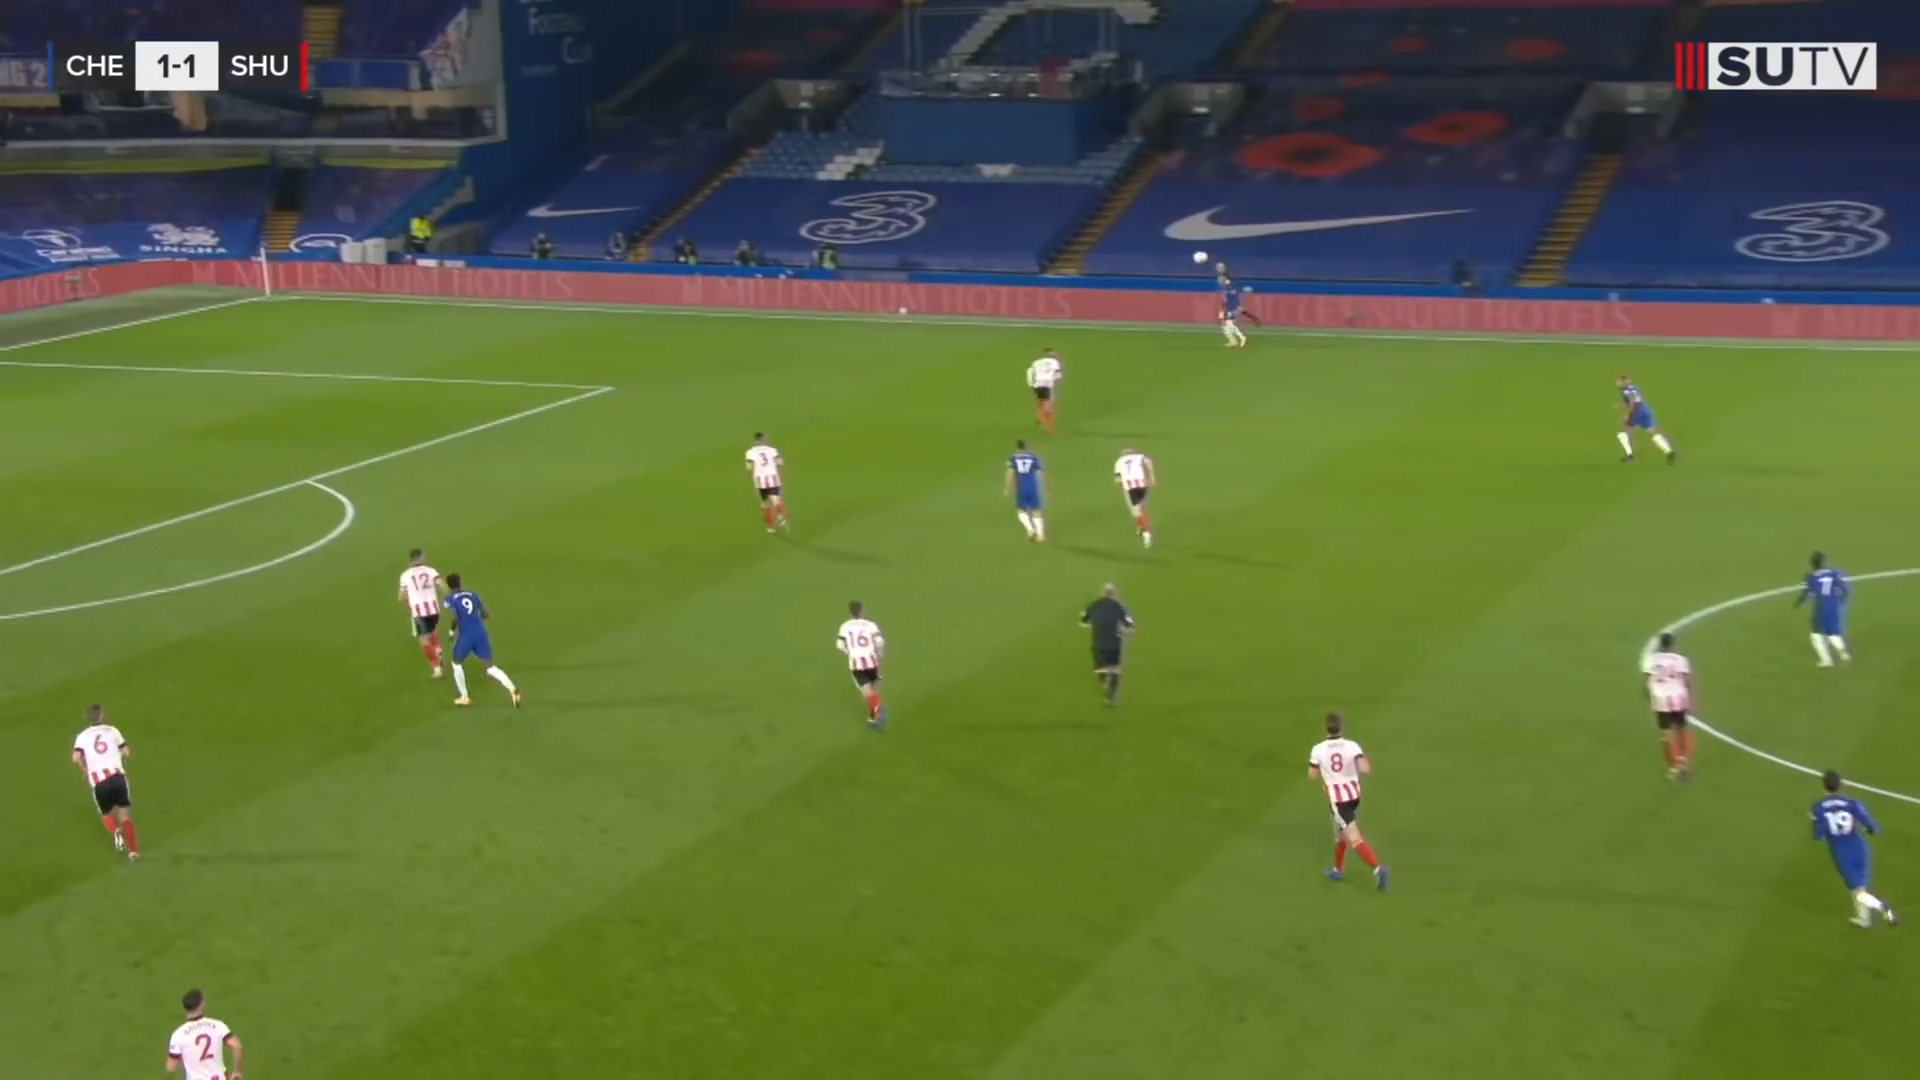Player: (1783, 764, 1909, 938), (1295, 706, 1400, 897), (56, 692, 155, 861), (436, 561, 525, 714), (830, 594, 900, 730), (729, 421, 793, 535)
